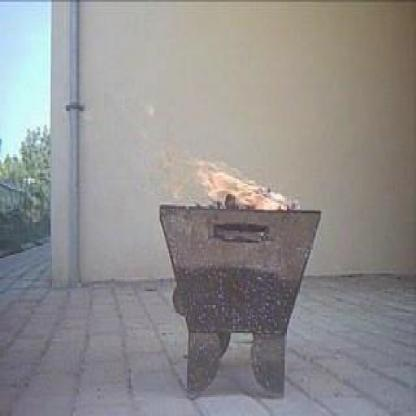fire: (144, 102, 317, 237)
